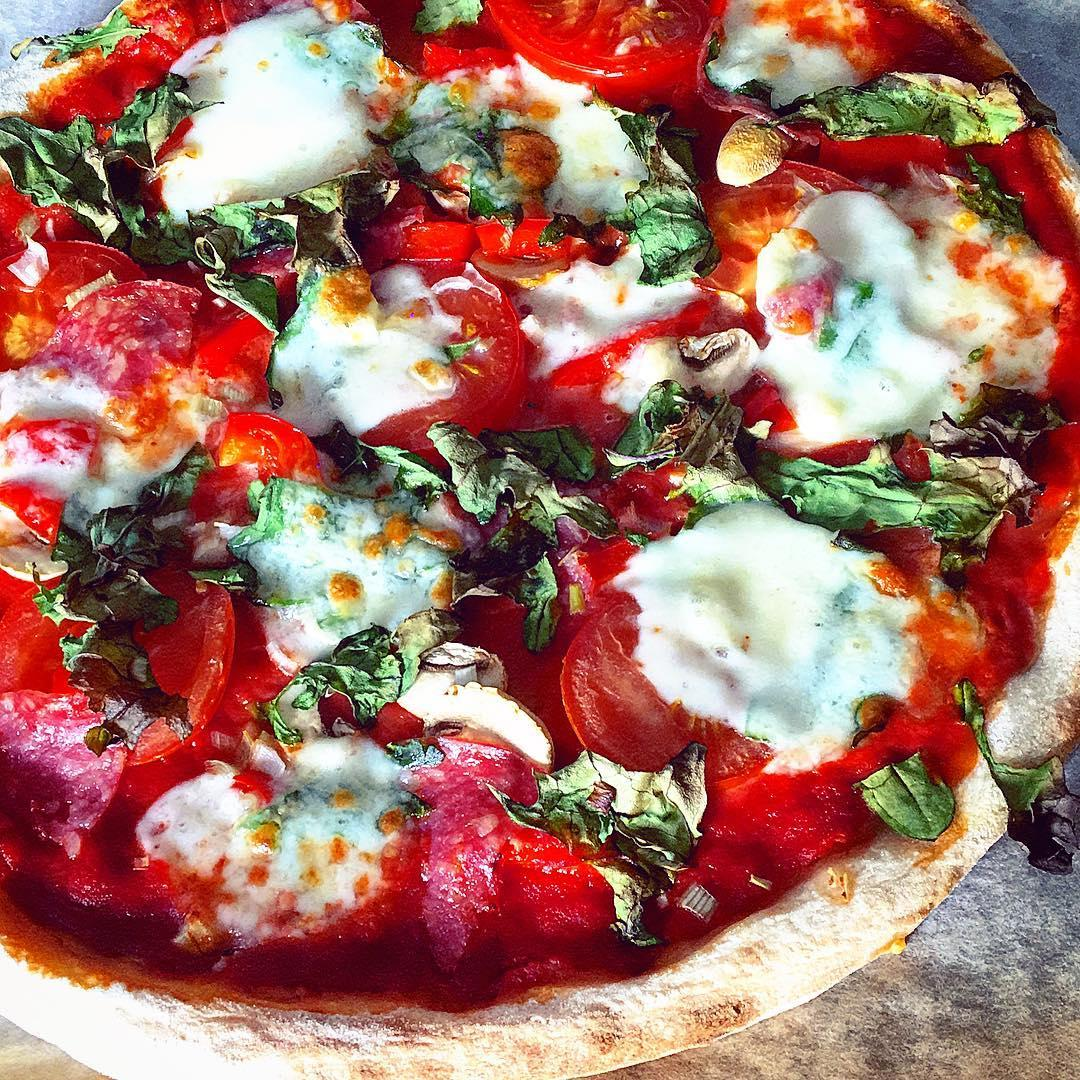Basil: (0, 69, 404, 347), (608, 375, 1001, 546), (28, 436, 216, 760), (421, 407, 656, 659), (480, 733, 715, 955), (261, 597, 469, 754), (927, 371, 1074, 591), (362, 63, 553, 223), (772, 60, 1067, 161), (949, 671, 1080, 885), (596, 91, 728, 291), (306, 414, 453, 526), (848, 745, 962, 850), (5, 0, 156, 62), (940, 149, 1035, 246), (401, 0, 499, 39)
Pepperoni: (393, 731, 537, 974), (0, 676, 138, 862), (35, 269, 206, 404), (687, 13, 829, 153), (761, 145, 895, 205)
Pizza: (0, 0, 1080, 1080)
Tomatoes: (511, 274, 789, 459), (546, 577, 778, 795), (0, 569, 235, 779), (336, 259, 535, 471), (340, 164, 613, 275), (481, 0, 734, 101), (0, 233, 146, 382), (177, 398, 325, 541), (0, 408, 105, 548)
